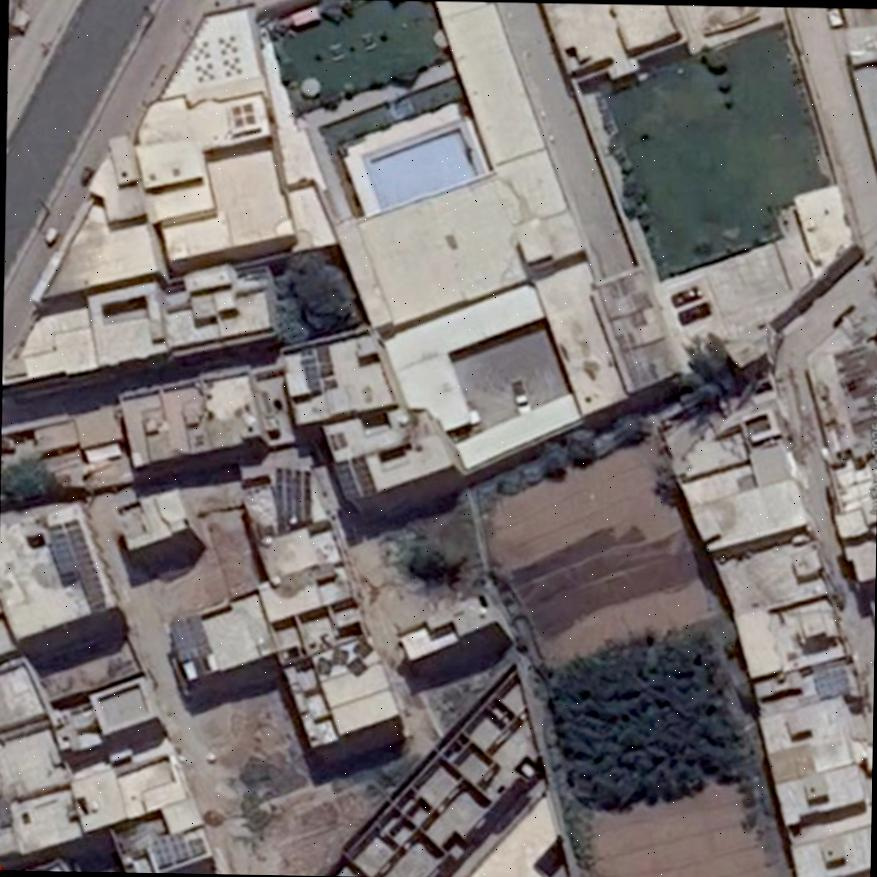Solarpanel: (38, 520, 101, 612), (273, 467, 311, 520), (167, 615, 208, 663), (334, 455, 375, 498), (152, 835, 186, 863)
